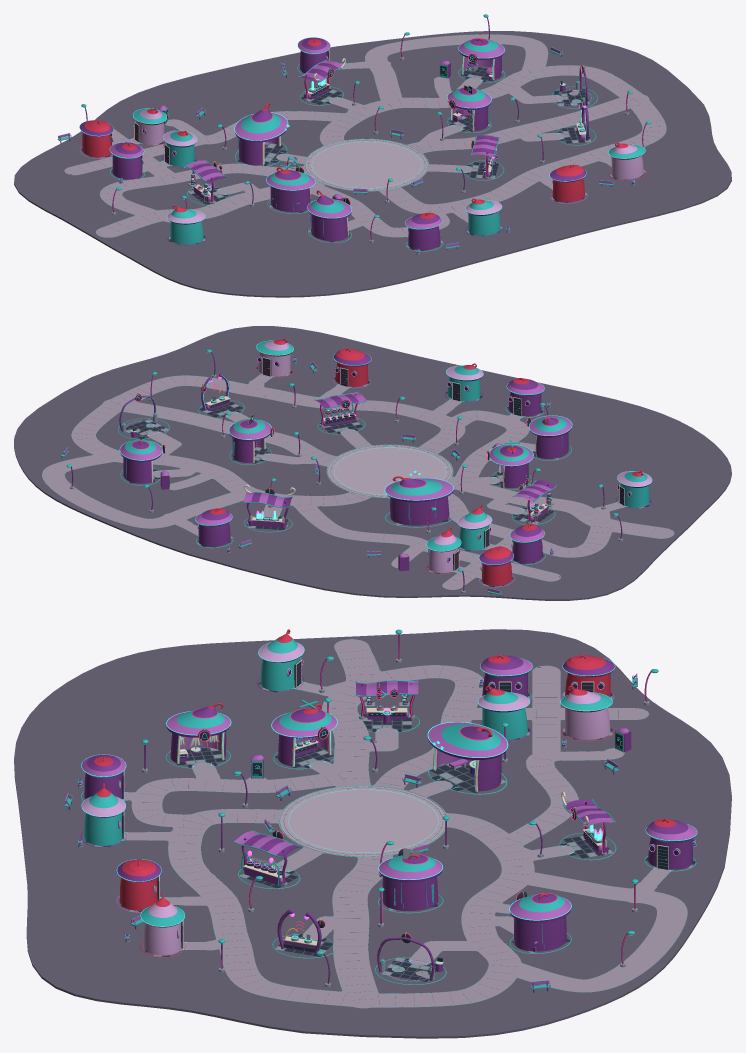
Rendered from crescent_market_village.glb.
The picture shows the model from 3 angles, top to bottom: view 1: azimuth 30°, elevation 25°; view 2: azimuth 150°, elevation 25°; view 3: azimuth 270°, elevation 25°; orthographic projection. The views are drawn at different scales.
Parts seen in each view (by area): view 1: Bare level foundation | BareStone, Union pavement | RoadStone, Flat amphitheater surface | PlazaStone, Road edge trim | Turquoise, 01_Hats / Shell walls | Plum.001, 03_Capes / Shell walls | Plum.002, Closed_10 / Closed shell | Plum.001, Closed_08 / Closed shell | Plum.001, Closed_05 / Closed shell | Plum, Closed_06 / Closed shell | Plum.001, Closed_07 / Closed shell | Plum, Closed_01 / Closed shell | Plum (+6 smaller); view 2: Bare level foundation | BareStone, Union pavement | RoadStone, Flat amphitheater surface | PlazaStone, Community_Hall / Shell walls | Plum, Road edge trim | Turquoise, 03_Capes / Shell walls | Plum.002, Closed_09 / Closed shell | Plum, 07_Inventory / Shell walls | Plum.004, Closed_01 / Closed shell | Plum, Closed_03 / Closed shell | Plum, Community_Hall / Roof | removable | Orchid, Closed_04 / Closed shell | Plum.001 (+9 smaller); view 3: Bare level foundation | BareStone, Union pavement | RoadStone, Flat amphitheater surface | PlazaStone, Road edge trim | Turquoise, Paving joint | Grout, 05_Abilities / Shell walls | Plum.003, 07_Inventory / Shell walls | Plum.004, Closed_04 / Closed shell | Plum.001, Closed_08 / Closed shell | Plum.001, Closed_06 / Closed shell | Plum.001, Closed_02 / Closed shell | Plum.001, Closed_07 / Closed shell | Plum (+7 smaller).
Part boxes in pixels (<box>): Bare level foundation | BareStone: <box>14,31,731,297</box>; Union pavement | RoadStone: <box>64,34,666,237</box>; Flat amphitheater surface | PlazaStone: <box>304,139,428,191</box>; Road edge trim | Turquoise: <box>64,34,666,237</box>; 01_Hats / Shell walls | Plum.001: <box>270,186,310,212</box>; 03_Capes / Shell walls | Plum.002: <box>310,215,347,241</box>; Closed_10 / Closed shell | Plum.001: <box>170,221,203,244</box>; Closed_08 / Closed shell | Plum.001: <box>611,155,643,179</box>; Closed_05 / Closed shell | Plum: <box>408,226,440,250</box>; Closed_06 / Closed shell | Plum.001: <box>468,211,500,235</box>; Closed_07 / Closed shell | Plum: <box>552,178,584,202</box>; Closed_01 / Closed shell | Plum: <box>112,155,142,179</box>; Bare level foundation | BareStone: <box>14,326,731,600</box>; Union pavement | RoadStone: <box>42,374,674,589</box>; Flat amphitheater surface | PlazaStone: <box>327,444,452,497</box>; Community_Hall / Shell walls | Plum: <box>390,497,449,525</box>; Road edge trim | Turquoise: <box>42,375,674,589</box>; 03_Capes / Shell walls | Plum.002: <box>536,433,568,458</box>; Closed_09 / Closed shell | Plum: <box>198,522,230,546</box>; 07_Inventory / Shell walls | Plum.004: <box>123,457,151,483</box>; Closed_01 / Closed shell | Plum: <box>512,539,542,563</box>; Closed_03 / Closed shell | Plum: <box>482,561,512,585</box>; Community_Hall / Roof | removable | Orchid: <box>385,478,453,499</box>; Closed_04 / Closed shell | Plum.001: <box>428,548,458,572</box>; Bare level foundation | BareStone: <box>14,629,731,1038</box>; Union pavement | RoadStone: <box>122,639,687,1008</box>; Flat amphitheater surface | PlazaStone: <box>279,785,447,856</box>; Road edge trim | Turquoise: <box>123,639,687,1008</box>; Paving joint | Grout: <box>137,650,618,1005</box>; 05_Abilities / Shell walls | Plum.003: <box>382,877,438,910</box>; 07_Inventory / Shell walls | Plum.004: <box>514,916,566,951</box>; Closed_04 / Closed shell | Plum.001: <box>565,707,610,739</box>; Closed_08 / Closed shell | Plum.001: <box>143,922,181,955</box>; Closed_06 / Closed shell | Plum.001: <box>84,813,122,845</box>; Closed_02 / Closed shell | Plum.001: <box>482,707,527,739</box>; Closed_07 / Closed shell | Plum: <box>119,877,157,910</box>.
Size of what is drawn, in the model's own units: 81.68 by 5.49 by 60.83.
